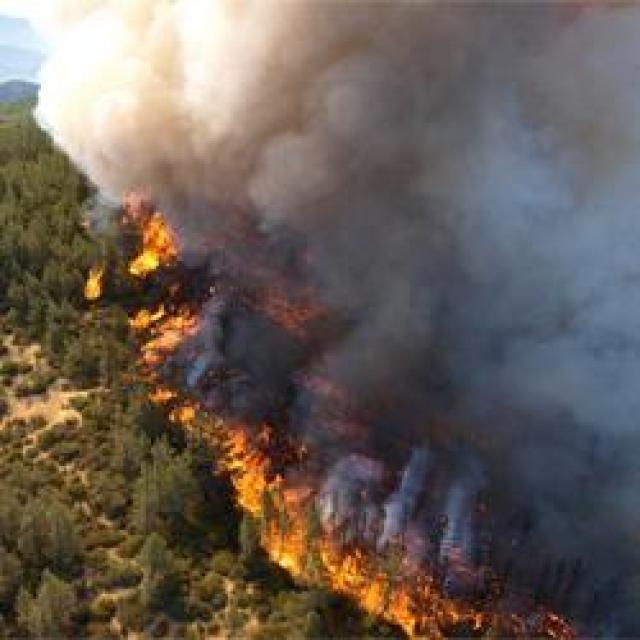Fire: (206, 440, 333, 574), (116, 223, 196, 362), (362, 576, 473, 638), (83, 272, 99, 304)
Smoke: (48, 0, 640, 215), (234, 223, 640, 427), (371, 429, 640, 572)
